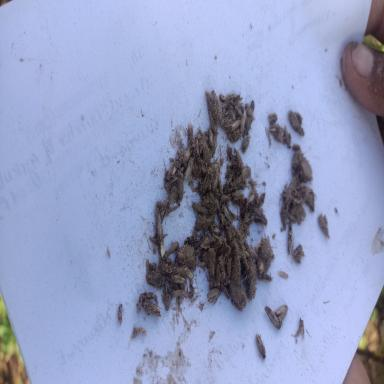pbw: (274, 295, 293, 319), (264, 306, 280, 330), (155, 208, 164, 242), (255, 332, 266, 359), (166, 159, 179, 181), (142, 301, 161, 316), (184, 156, 193, 182), (164, 240, 179, 255), (180, 264, 194, 280), (207, 288, 221, 303), (245, 102, 256, 121), (284, 123, 292, 149), (288, 225, 294, 255), (240, 109, 247, 134), (258, 190, 267, 209), (192, 200, 204, 214), (187, 122, 194, 146), (170, 274, 186, 284), (208, 128, 215, 149), (231, 118, 241, 132), (215, 263, 220, 287), (184, 148, 192, 162), (210, 226, 221, 235), (258, 260, 264, 275)
